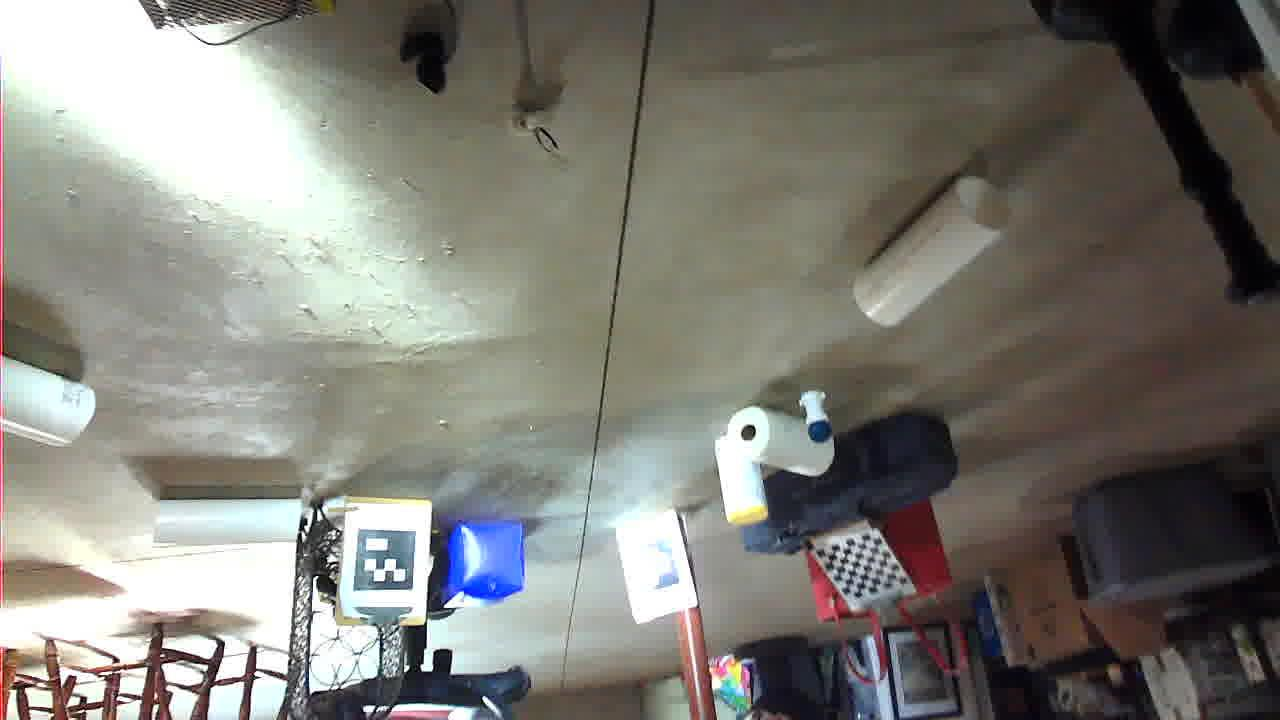coral: (271, 393, 426, 547), (1189, 273, 1280, 365), (980, 173, 1130, 221)
